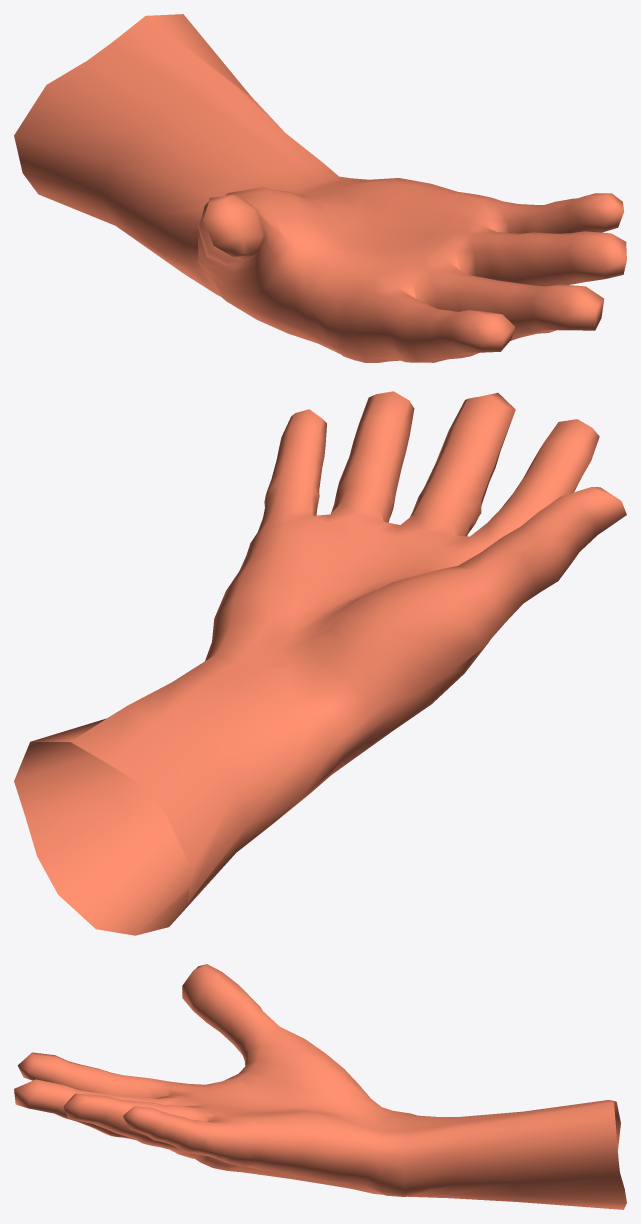
Rendered from 2_3_HandSmoothRighFront.obj.
The picture shows the model from 3 angles, top to bottom: view 1: azimuth 30°, elevation 25°; view 2: azimuth 150°, elevation 25°; view 3: azimuth 270°, elevation 25°; orthographic projection. The views are drawn at different scales.
Visible parts, largest first — view 1: hand_man_polySurface1.002; view 2: hand_man_polySurface1.002; view 3: hand_man_polySurface1.002.
Boxes of the visible parts, x1,y1,x2,y2 form: hand_man_polySurface1.002: (14, 14, 626, 362); hand_man_polySurface1.002: (14, 391, 626, 935); hand_man_polySurface1.002: (14, 964, 626, 1209).
Bounding box in the file's own units: 0.0799 × 0.0535 × 0.1653.
